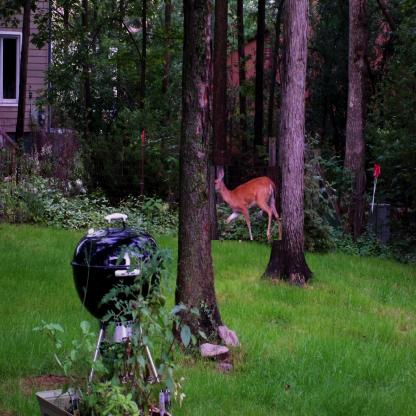Deer: (210, 166, 282, 240)
